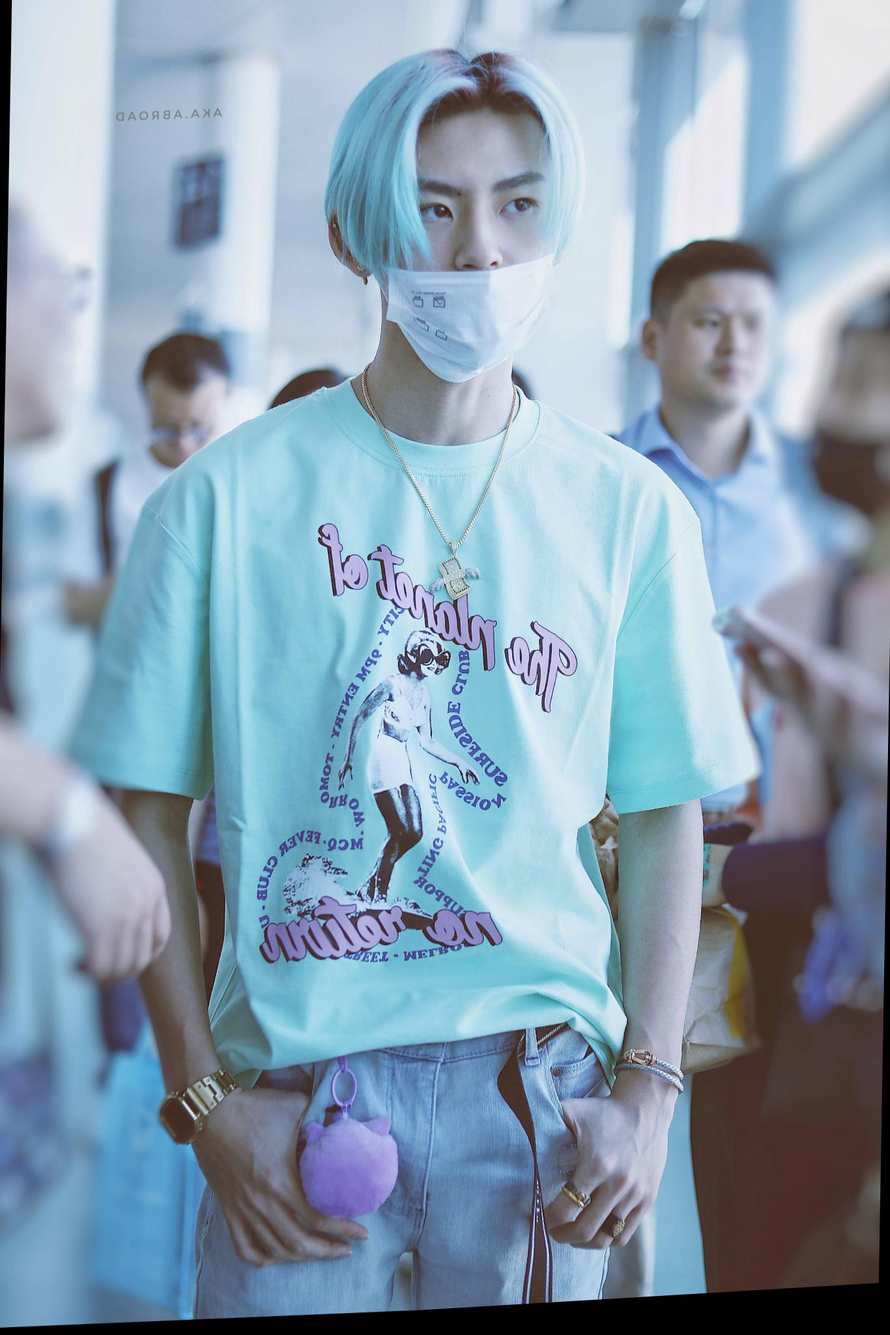NONE: (669, 301, 771, 424), (147, 381, 224, 467)
WRONG: (383, 147, 549, 387), (812, 353, 890, 529)
